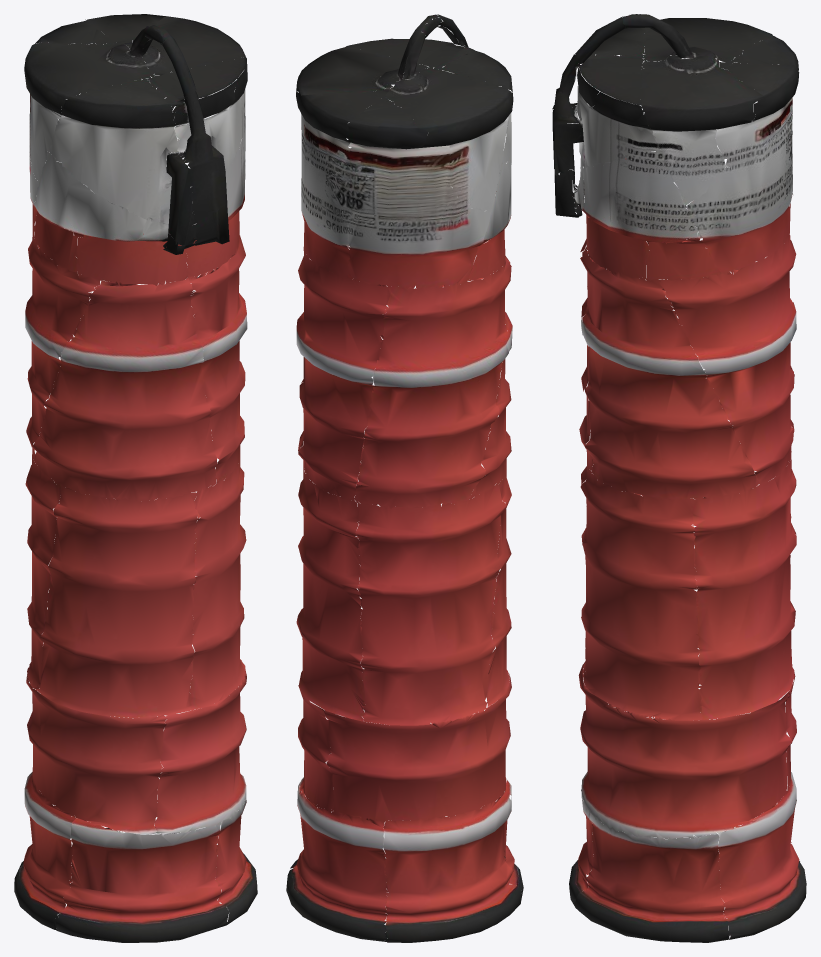
The model's file is flare.glb.
3 renders of one model, left to right at view 1: azimuth 30°, elevation 25°; view 2: azimuth 150°, elevation 25°; view 3: azimuth 270°, elevation 25°, orthographic. The views are drawn at different scales.
Parts seen in each view (by area): view 1: tripo_node_184babc3-4cb3-453d-b66f-9b039325f264; view 2: tripo_node_184babc3-4cb3-453d-b66f-9b039325f264; view 3: tripo_node_184babc3-4cb3-453d-b66f-9b039325f264.
Boxes of the visible parts, x1,y1,x2,y2 form: tripo_node_184babc3-4cb3-453d-b66f-9b039325f264: [14, 14, 257, 942]; tripo_node_184babc3-4cb3-453d-b66f-9b039325f264: [286, 14, 523, 942]; tripo_node_184babc3-4cb3-453d-b66f-9b039325f264: [552, 14, 806, 942].
Bounding box in the file's own units: 0.2496 × 1 × 0.2614.
1 material, 1 textured.
